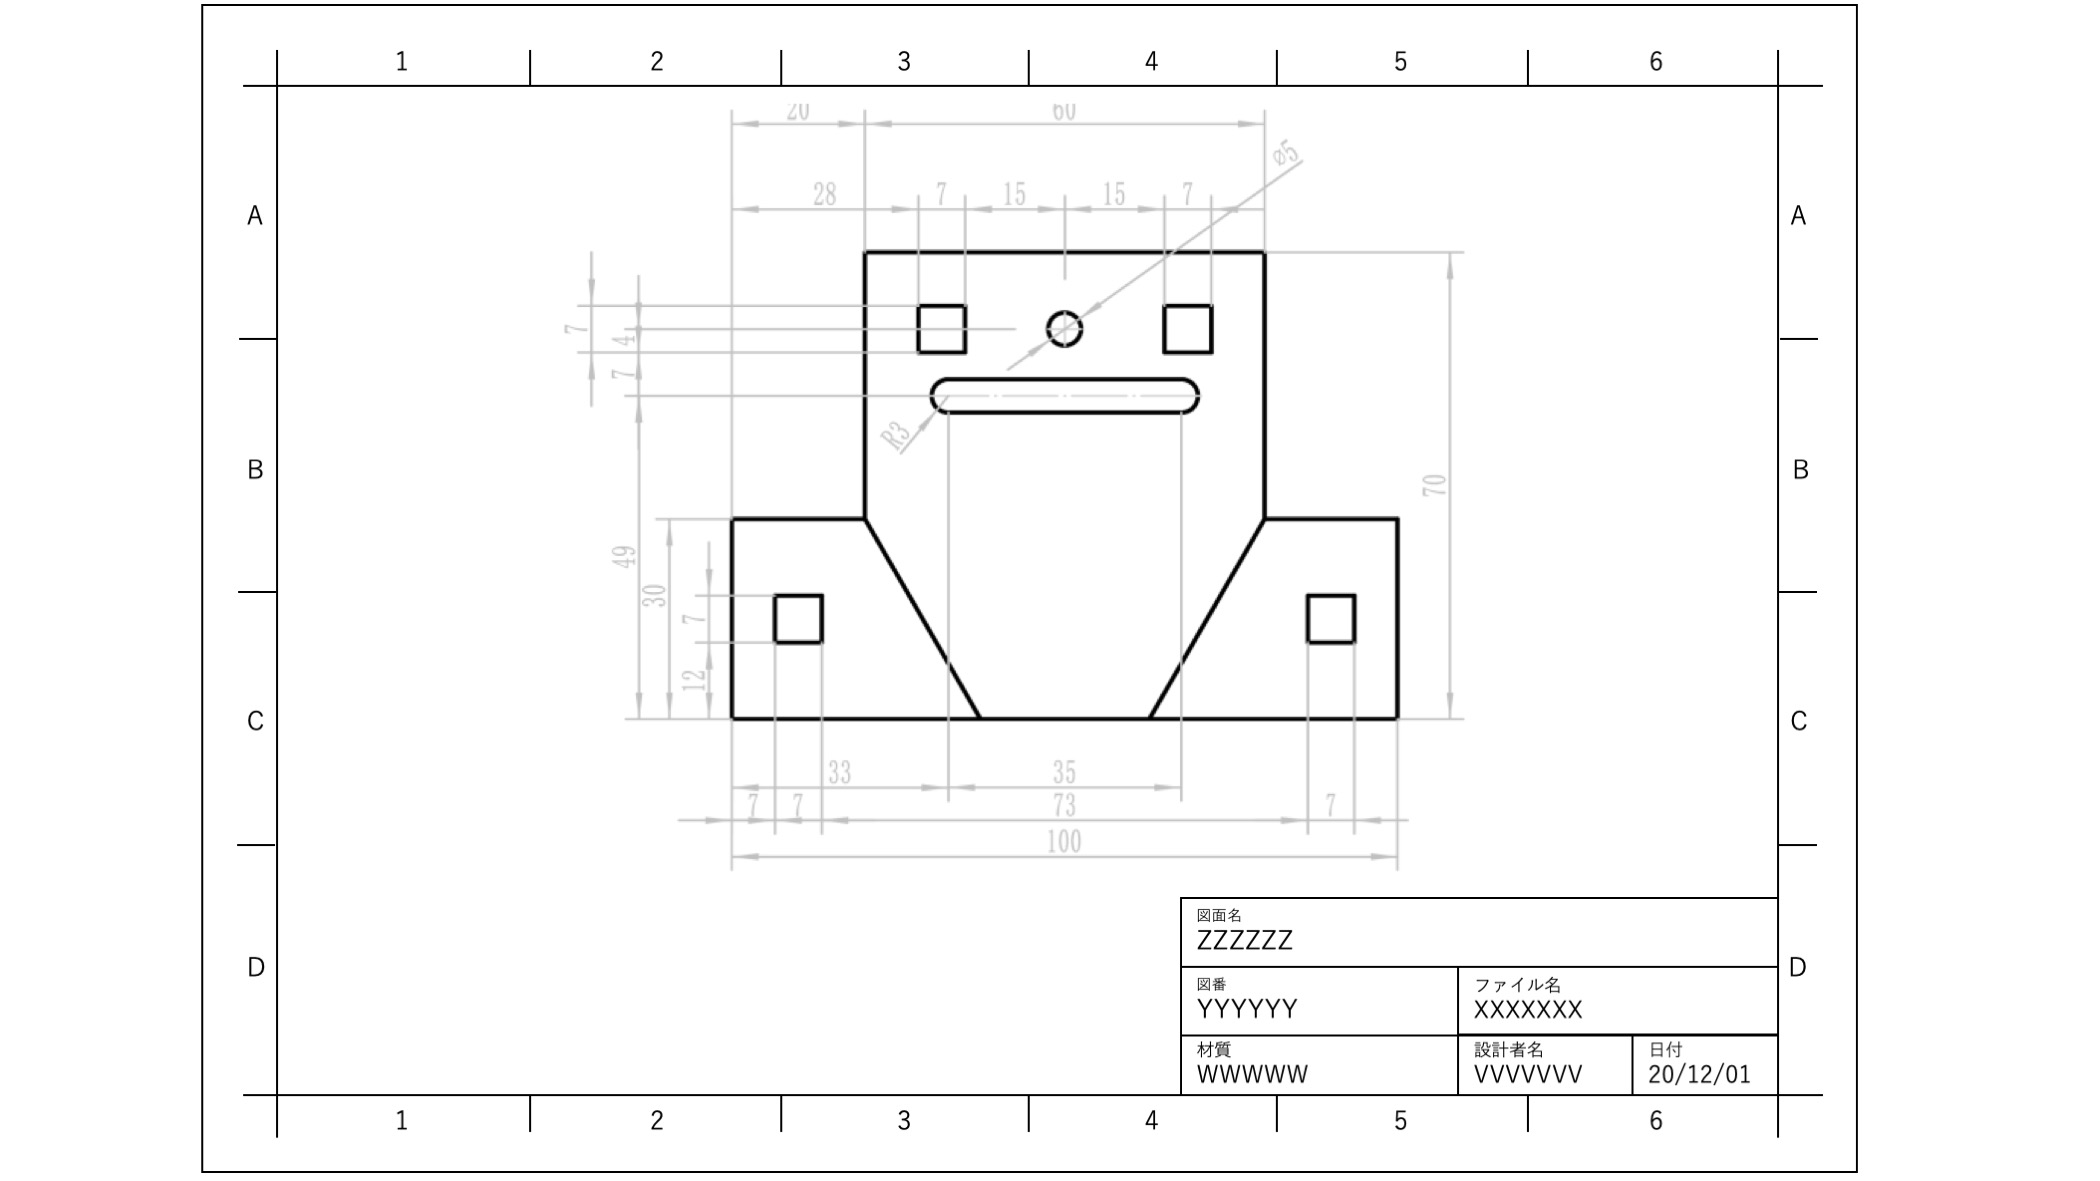circle: (1037, 306, 1092, 358)
rectangle: (906, 296, 976, 363), (1151, 296, 1222, 363), (1298, 583, 1364, 652), (764, 581, 829, 650)
round_rectangle: (922, 376, 1204, 420)
